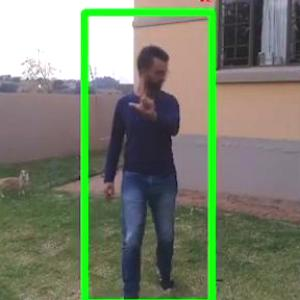land_hand: (127, 79, 161, 118)
